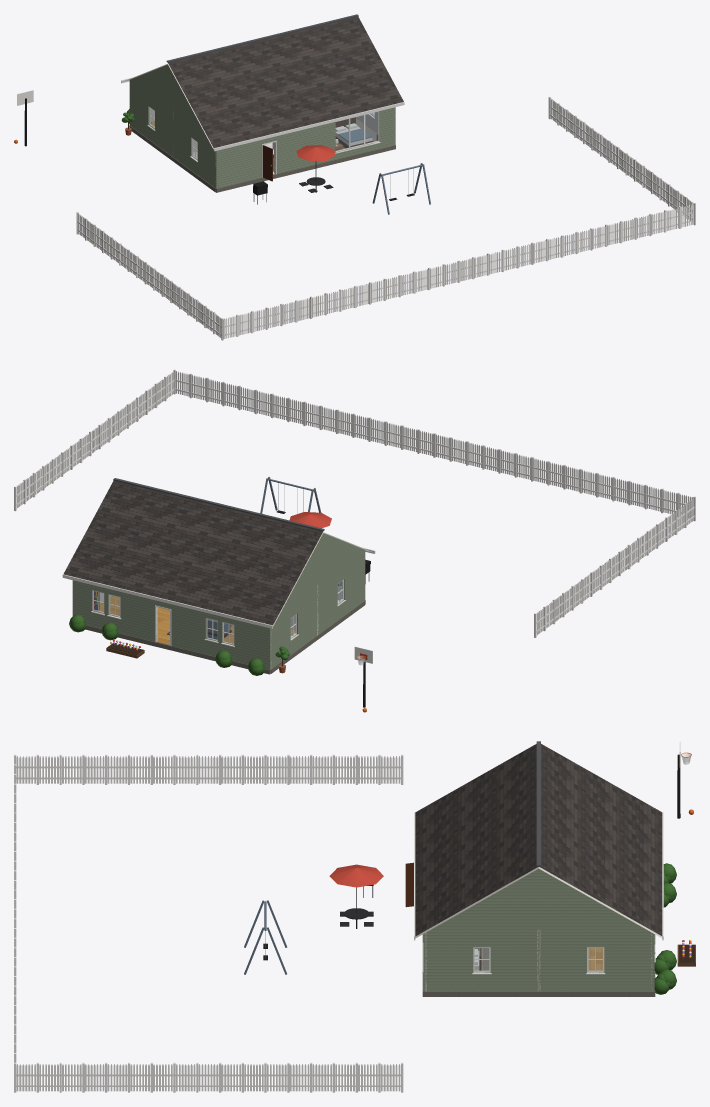
The model's file is house_S2.glb.
3 views of the same model, one above another, from view 1: azimuth 30°, elevation 25°; view 2: azimuth 150°, elevation 25°; view 3: azimuth 270°, elevation 25° (orthographic). The views are drawn at different scales.
Parts seen in each view (by area): view 1: house_S2; view 2: house_S2; view 3: house_S2.
Part boxes in pixels (x1,y1,x2,y2): house_S2: (14,14,695,340); house_S2: (14,369,695,712); house_S2: (14,741,695,1092).
Size of the model in its own units: 32.1 by 6.61 by 29.95.
Materials: 52 (8 with a texture image).
